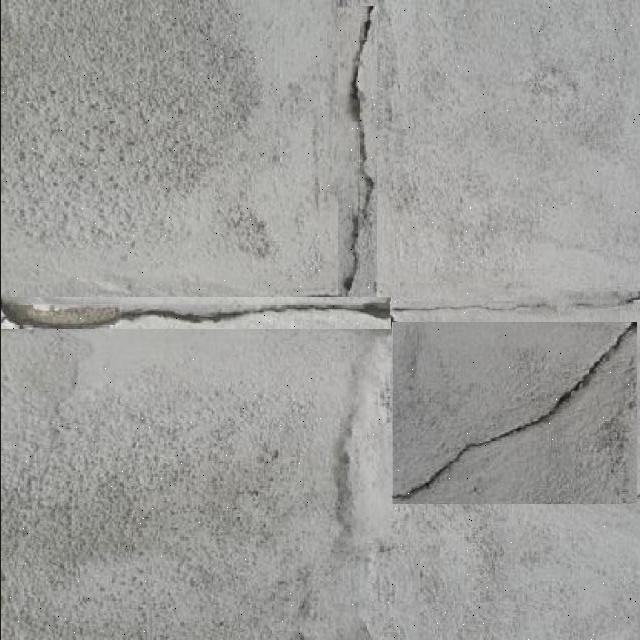crack: (0, 321, 386, 640), (368, 1, 639, 310), (391, 319, 639, 502), (324, 21, 389, 638), (12, 295, 640, 325), (340, 0, 381, 298)
dampens: (353, 6, 376, 84)
